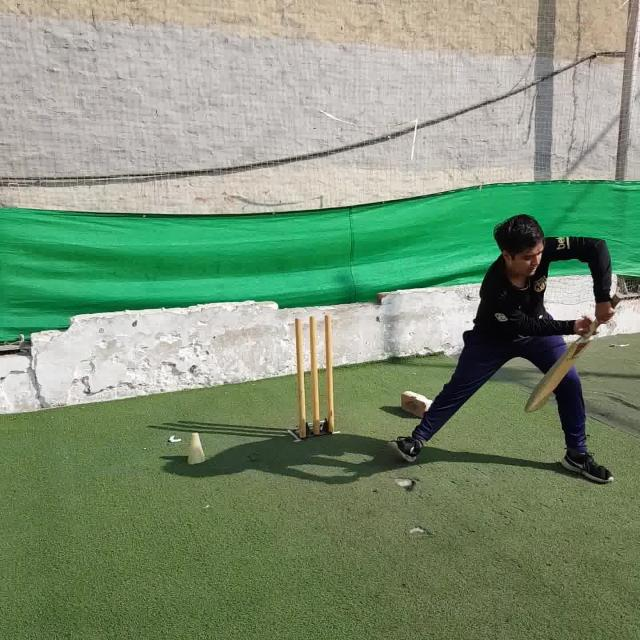bat: (526, 293, 623, 413)
